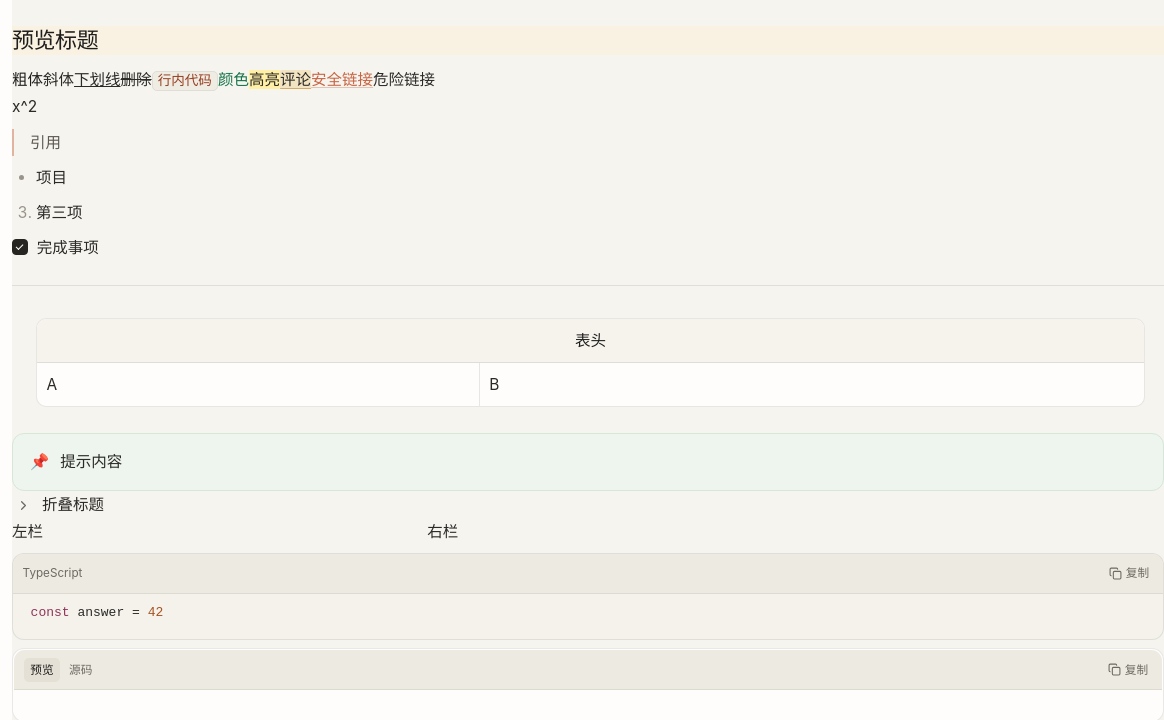
Test: DocumentPreview › renders every schema node and mark without editable ProseMirror state
Later steps or results of the test are not shown.
Expected: the text "粗体" is shown, [12, 70, 43, 89]
Expected: the text "斜体" is shown, [43, 70, 74, 89]
Click the button named "展开折叠内容": [24, 506] box [12, 494, 35, 517]
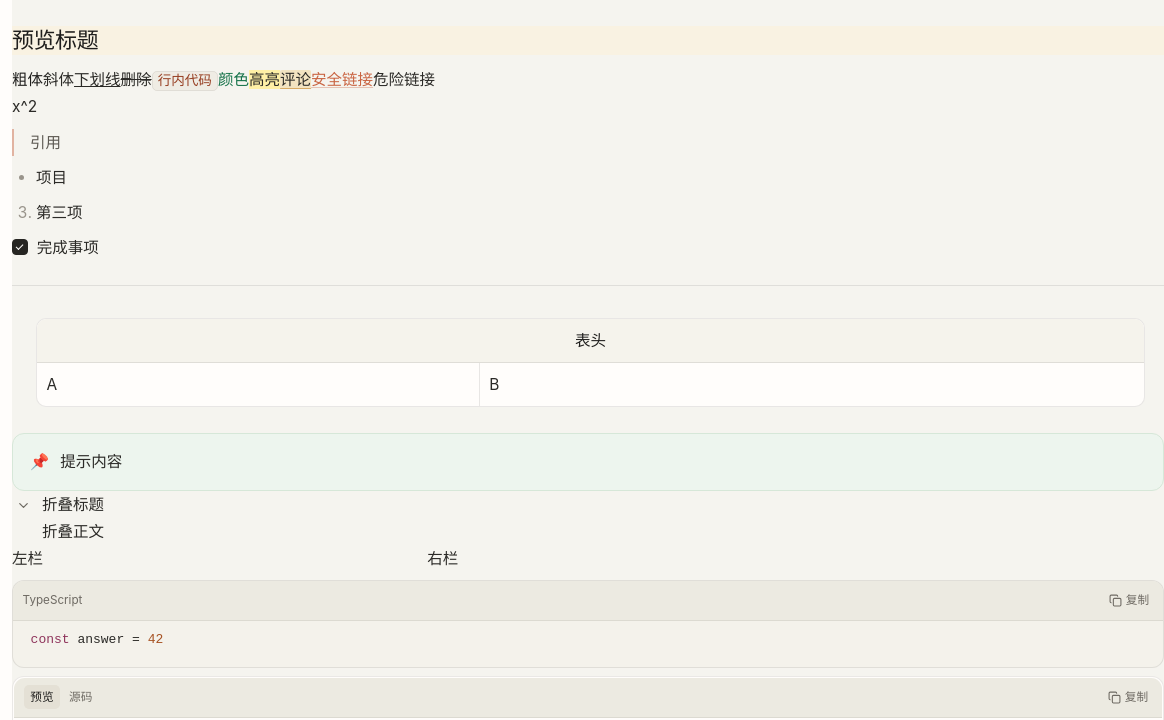
Result: the button named "收起折叠内容" is expanded at [12, 494, 35, 517]
